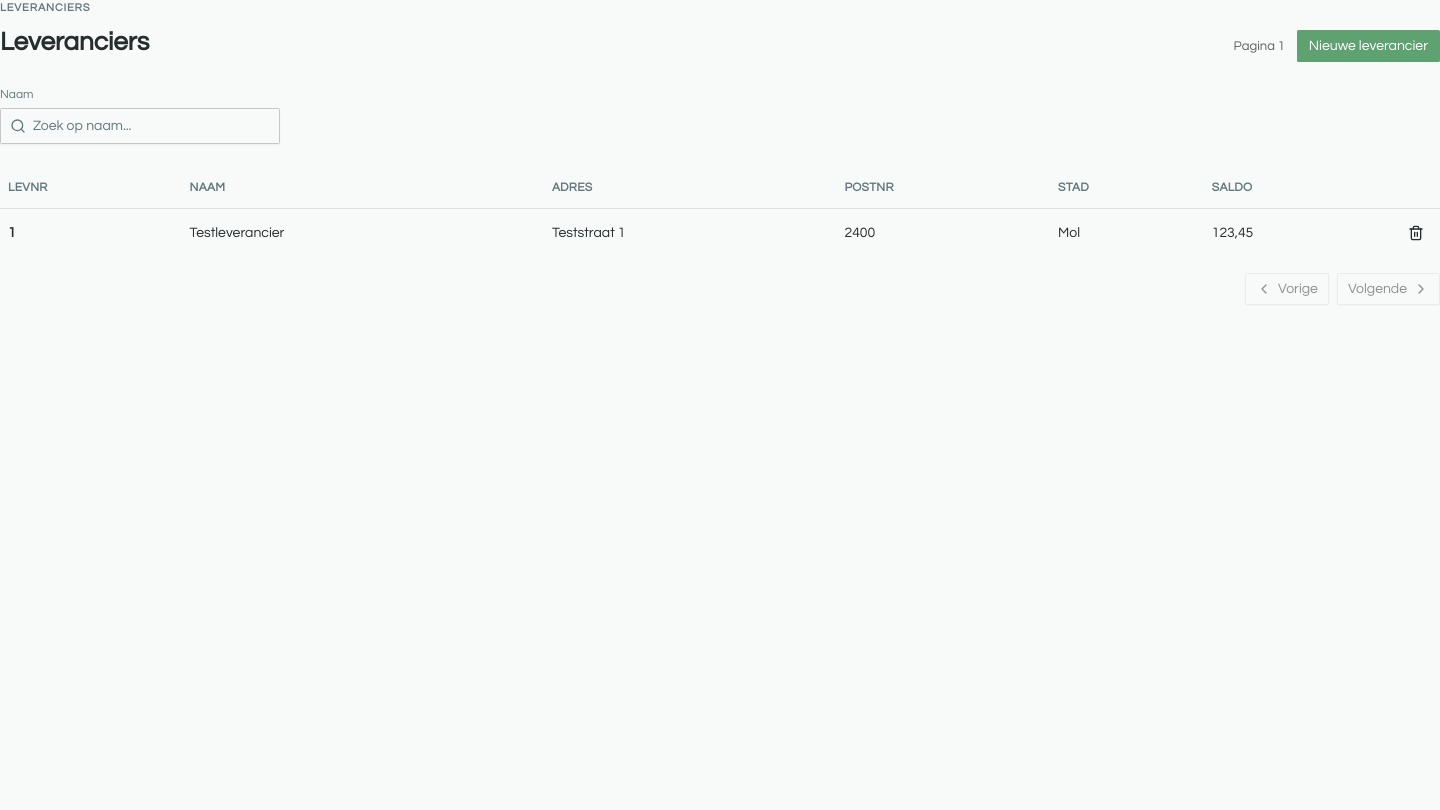
LeveranciersPage › opens the delete dialog for a row without navigating
Click the button named "verwijder leverancier testleverancier" at (1416,233), box [1400, 217, 1432, 249]
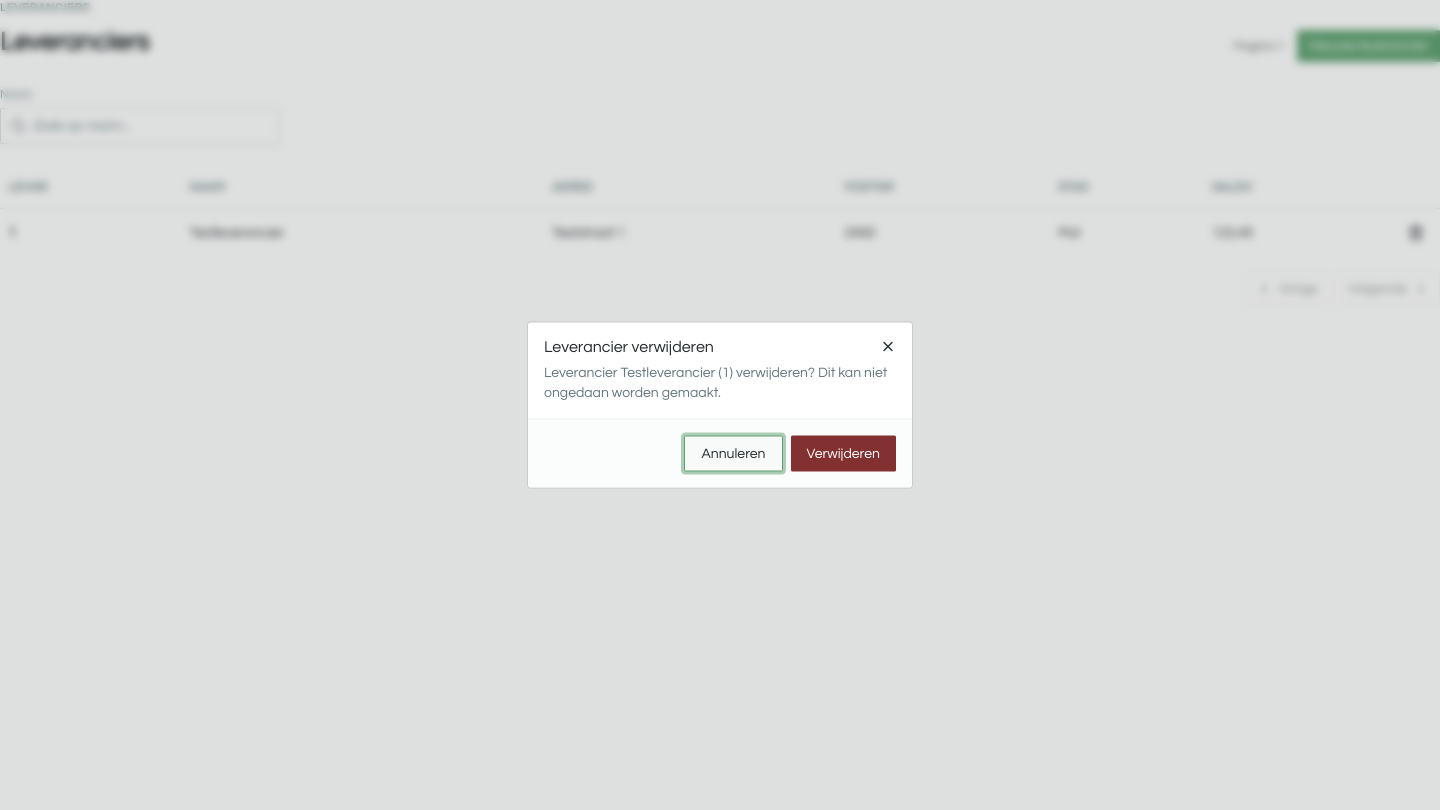
Now the text "Leverancier Testleverancier (1) verwijderen?" is shown, box [544, 362, 896, 402]
